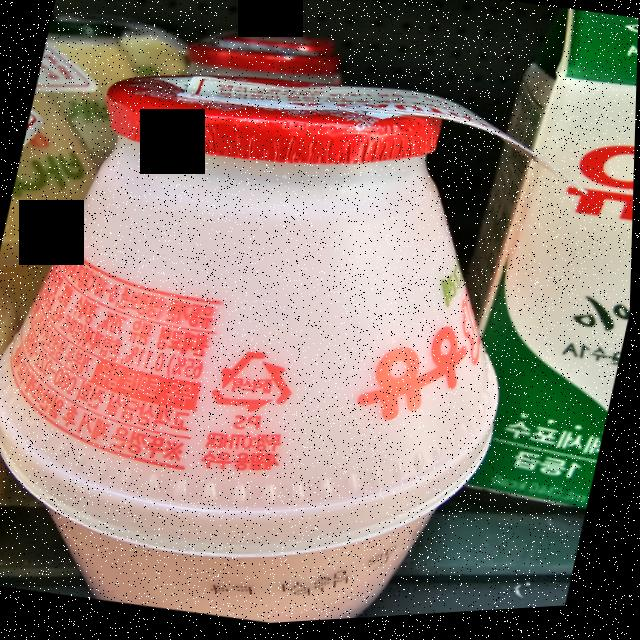Plastic: (208, 342, 308, 428)
